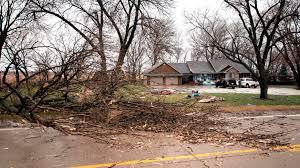affected: (148, 56, 256, 88)
